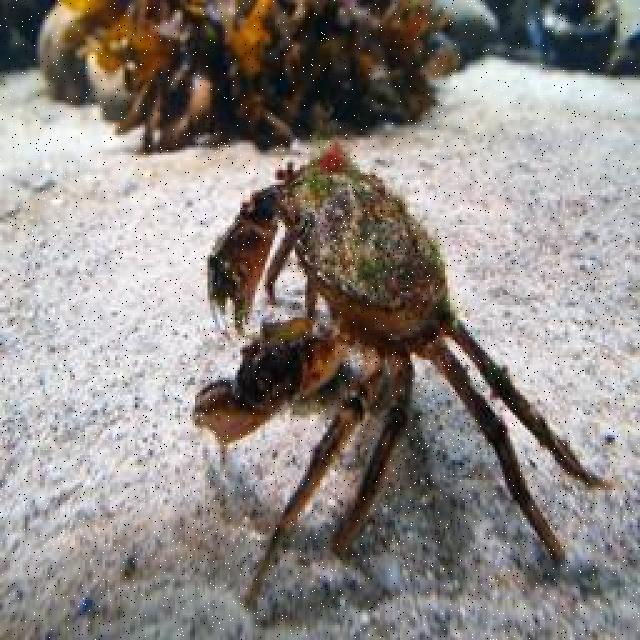reefs: (191, 136, 605, 611), (35, 1, 504, 155)
